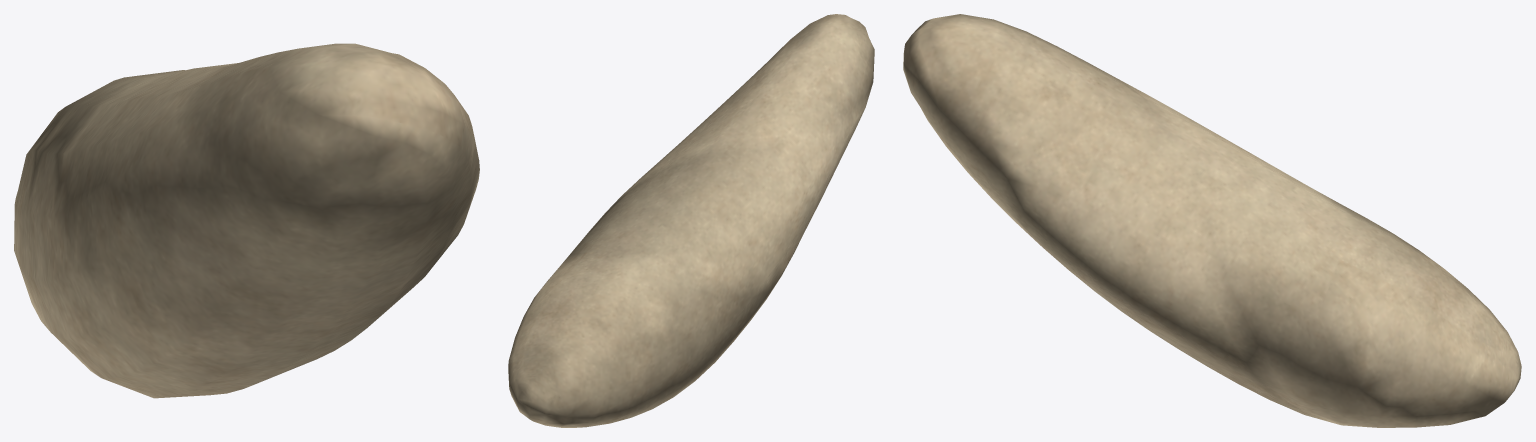
The model's file is Lower_Canine1.glb.
3 renders of one model, left to right at view 1: azimuth 30°, elevation 25°; view 2: azimuth 150°, elevation 25°; view 3: azimuth 270°, elevation 25°, orthographic. The views are drawn at different scales.
Parts seen in each view (by area): view 1: Lower_Canine1.glb; view 2: Lower_Canine1.glb; view 3: Lower_Canine1.glb.
Part boxes in pixels (bbox=[...]): Lower_Canine1.glb: bbox=[14, 43, 479, 398]; Lower_Canine1.glb: bbox=[508, 14, 874, 427]; Lower_Canine1.glb: bbox=[903, 14, 1521, 427].
Size of the model in its own units: 0.00853 by 0.0126 by 0.0196.
Materials: 1 (1 with a texture image).
